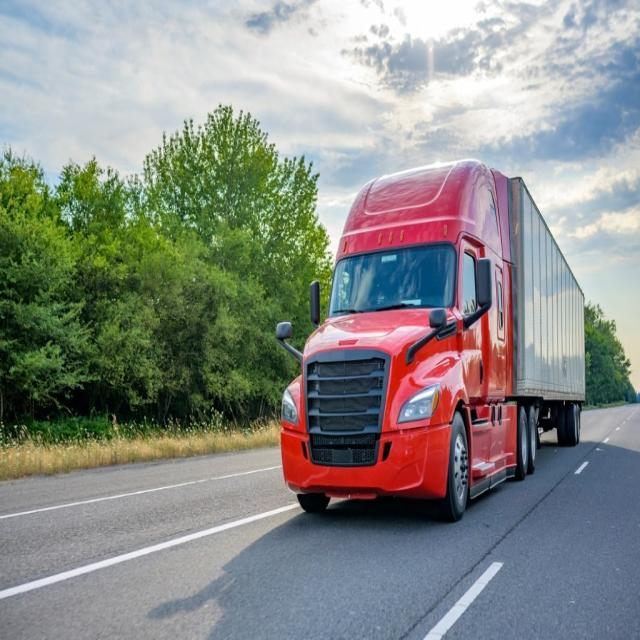traffic light: (275, 156, 586, 522)
